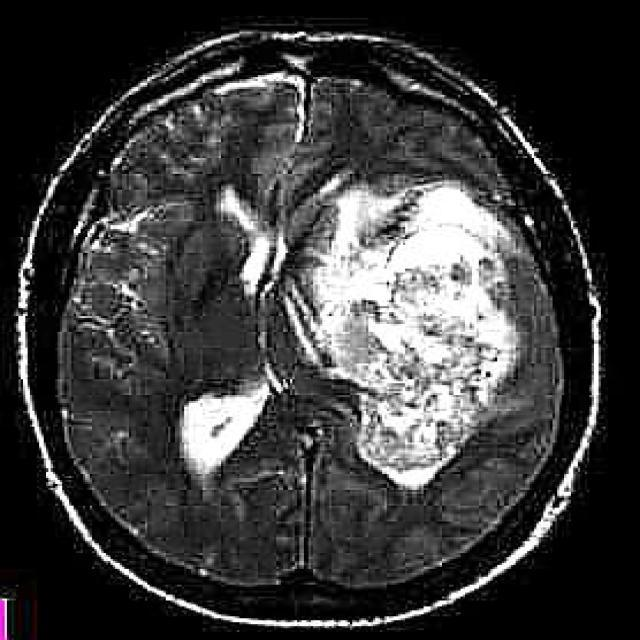brain tumor: (313, 186, 518, 488)
